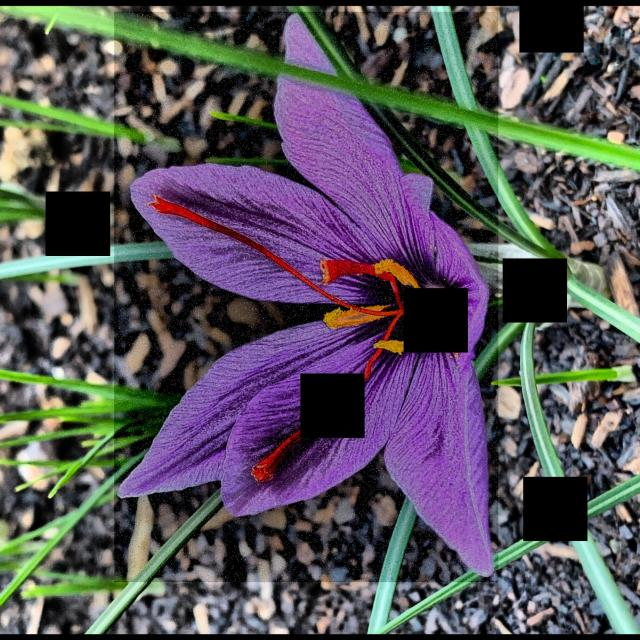Flower: (114, 12, 498, 583)
stigma: (148, 196, 423, 325)
